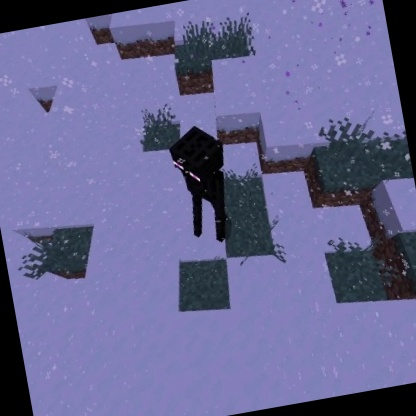enderman: (162, 118, 242, 252)
